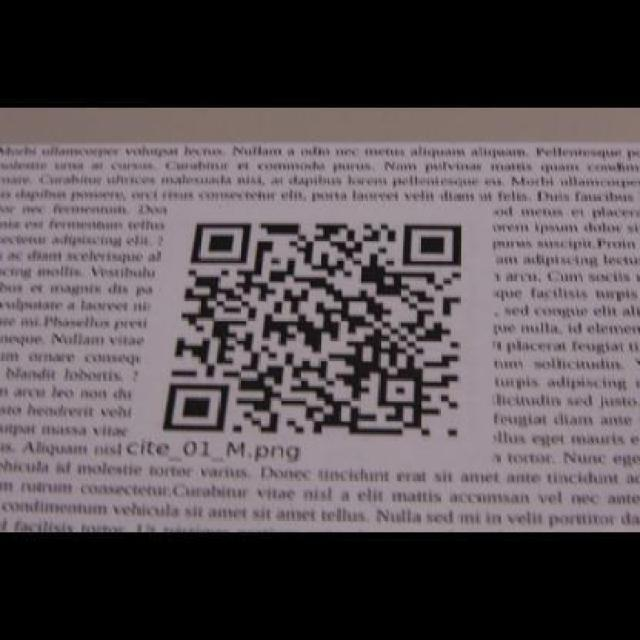QRCode: (155, 214, 470, 441)
